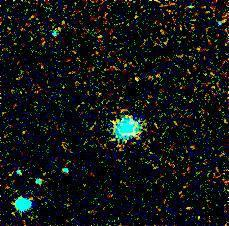star: (120, 63, 150, 93)
